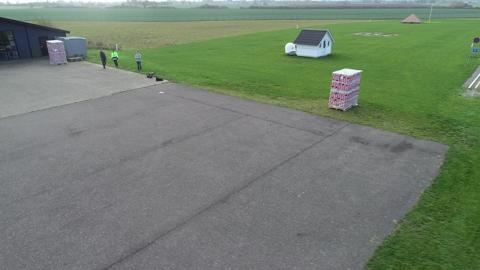RockwoolPallet: (46, 39, 68, 66)
